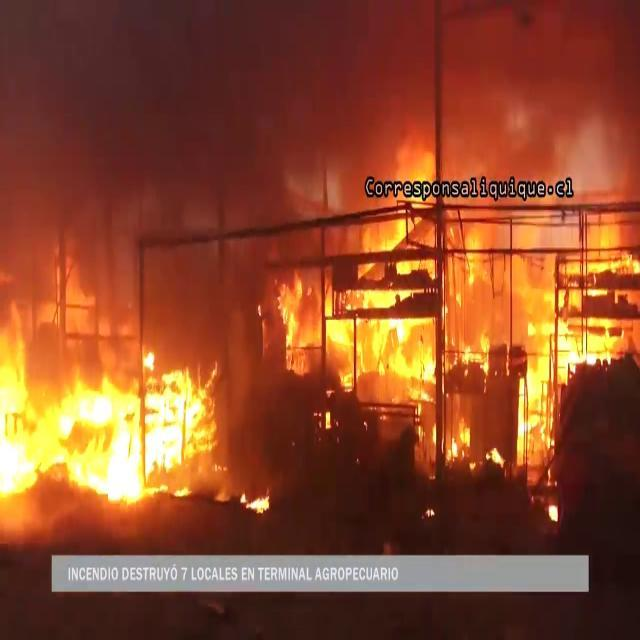Fire: (272, 202, 488, 444), (0, 327, 218, 513), (513, 272, 619, 462)
Smoke: (288, 4, 640, 274), (0, 9, 280, 323)
